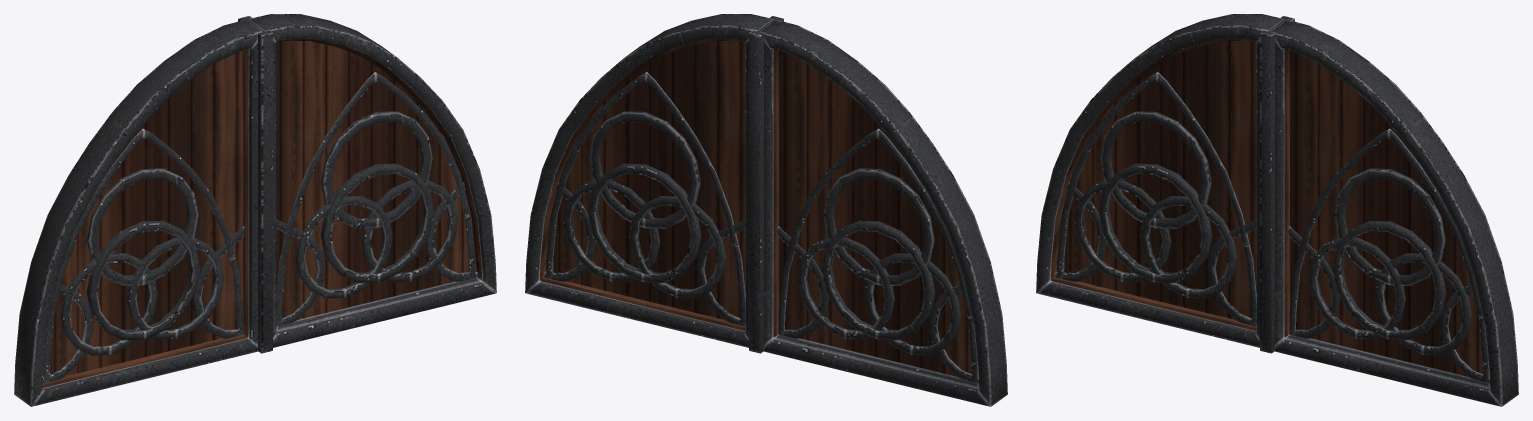
The model's file is Door_A_top.fbx.
The picture shows the model from 3 angles, left to right: view 1: azimuth 30°, elevation 25°; view 2: azimuth 150°, elevation 25°; view 3: azimuth 330°, elevation 25°; orthographic projection.
Visible parts, largest first — view 1: Door_A_top; view 2: Door_A_top; view 3: Door_A_top.
Part boxes in pixels (x1=…): Door_A_top: x1=14, y1=14, x2=496, y2=406; Door_A_top: x1=525, y1=14, x2=1007, y2=406; Door_A_top: x1=1036, y1=14, x2=1518, y2=406.
Size of the model in its own units: 6.91 by 4.52 by 0.6127.
